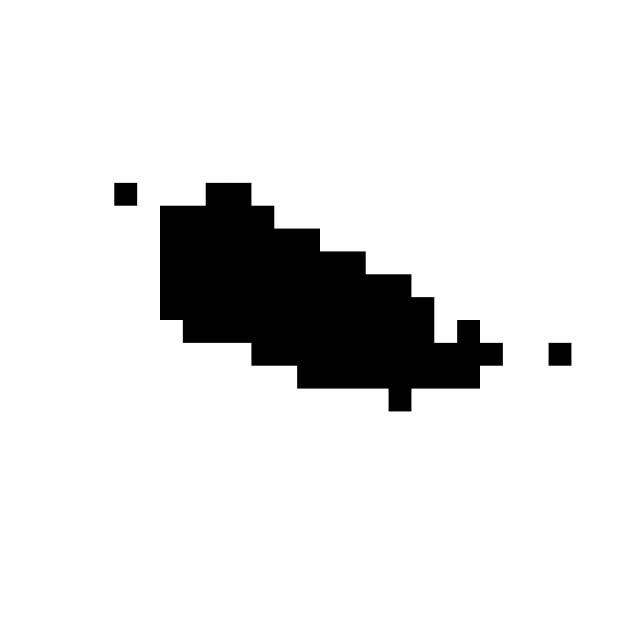0 -zero-: (91, 146, 587, 429)
